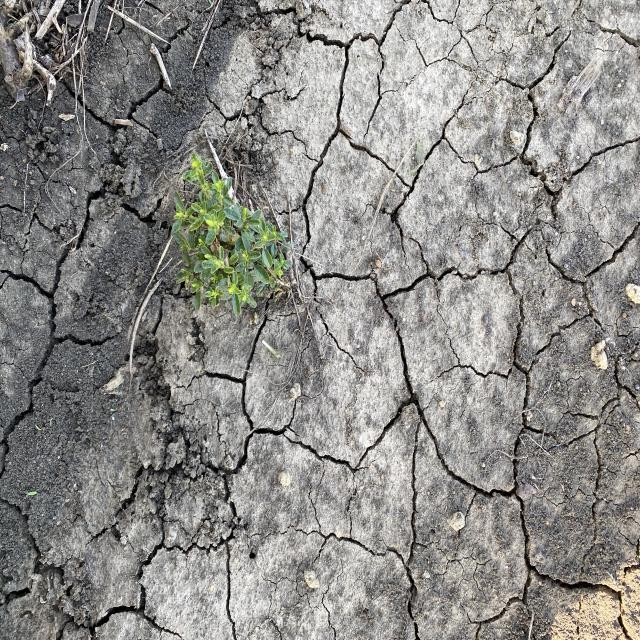Waterhemp: (170, 152, 294, 318)
